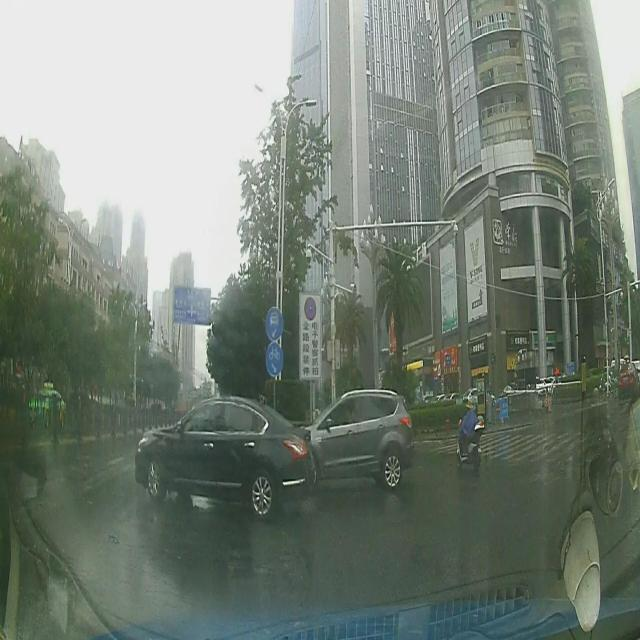car: (134, 397, 312, 504), (308, 394, 414, 489)
